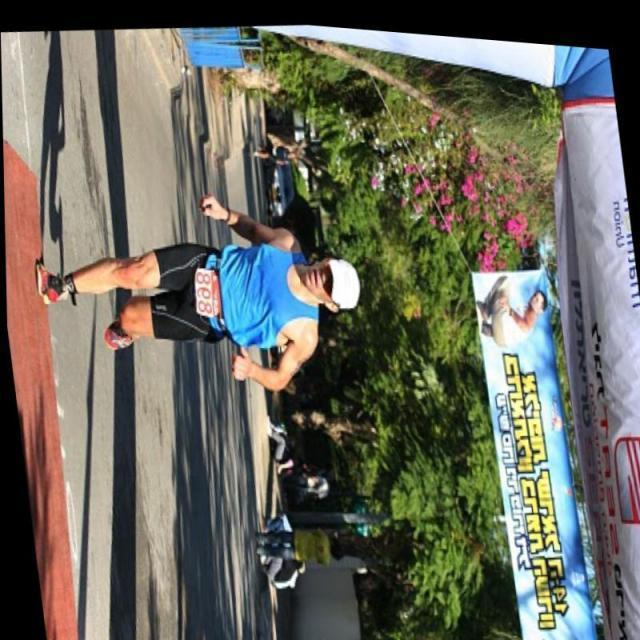dorsal: (186, 251, 223, 322)
